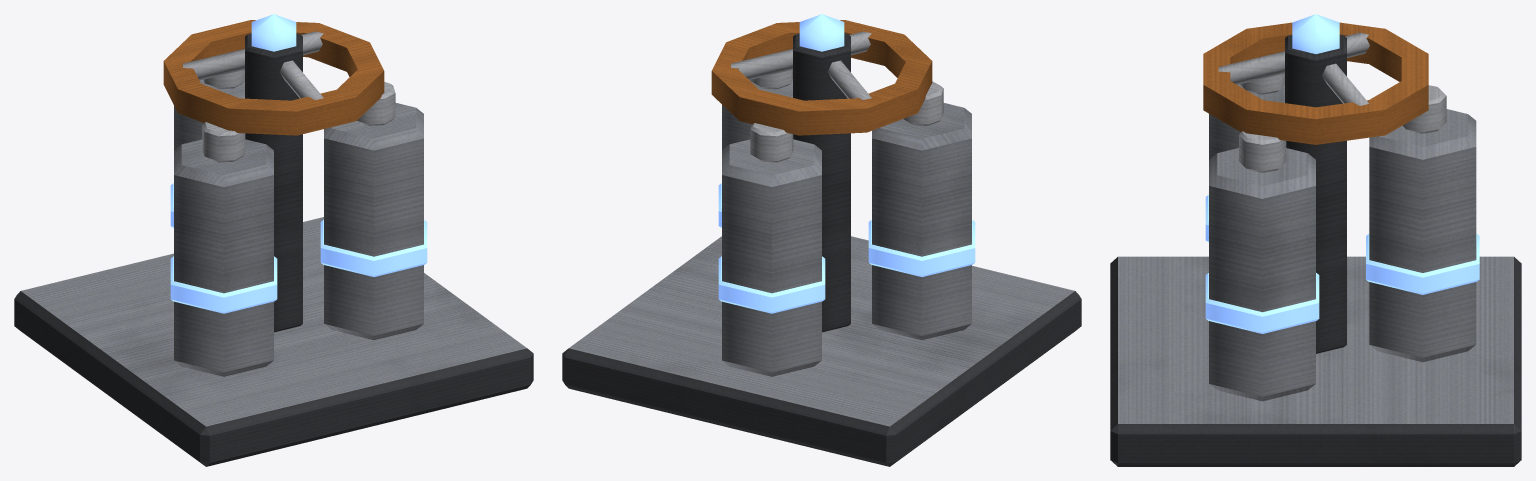
File: R4X_ChargeRegenerator_LOD1.glb
The picture shows the model from 3 angles, left to right: view 1: azimuth 30°, elevation 25°; view 2: azimuth 150°, elevation 25°; view 3: azimuth 270°, elevation 25°; orthographic projection. The views are drawn at different scales.
Parts seen in each view (by area): view 1: R4X_ChargeRegenerator_LOD1; view 2: R4X_ChargeRegenerator_LOD1; view 3: R4X_ChargeRegenerator_LOD1.
Part boxes in pixels (left/top/right/bottom): R4X_ChargeRegenerator_LOD1: left=14, top=14, right=533, bottom=466; R4X_ChargeRegenerator_LOD1: left=562, top=14, right=1081, bottom=466; R4X_ChargeRegenerator_LOD1: left=1110, top=14, right=1521, bottom=466.
Size of the model in its own units: 0.52 by 0.515 by 0.52.
Materials: 5 (4 with a texture image).
